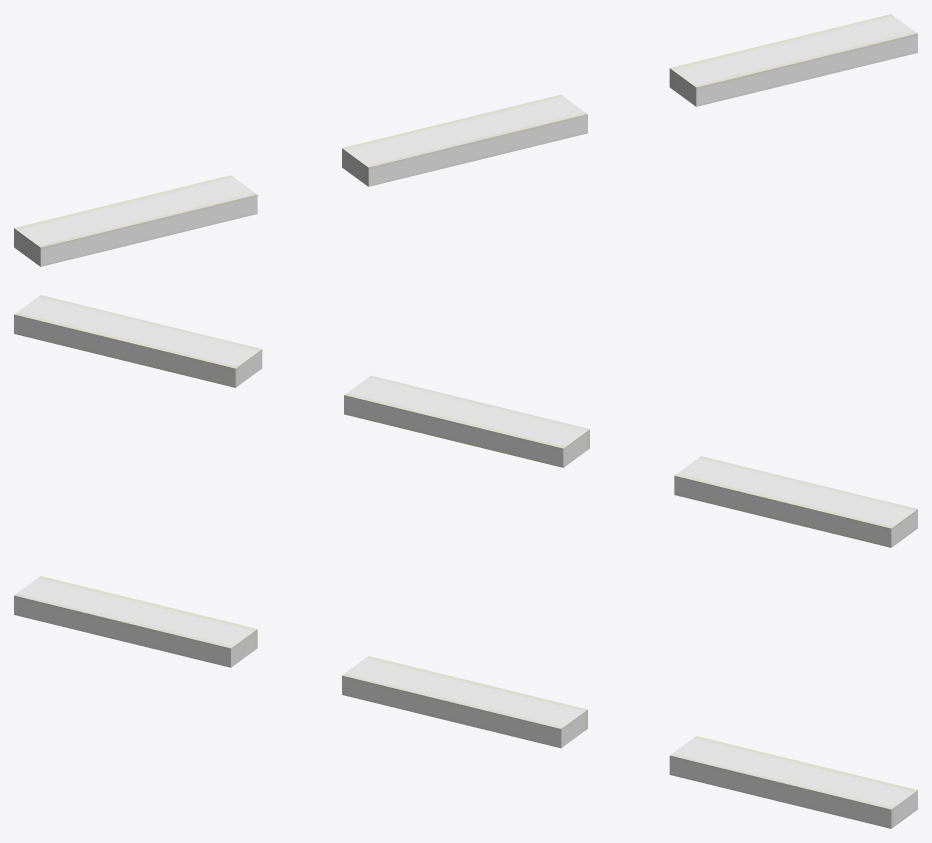
The model's file is Poly_SF_Outside_B_Junk_Stall_01_Lights.obj.
3 renders of one model, top to bottom at view 1: azimuth 30°, elevation 25°; view 2: azimuth 150°, elevation 25°; view 3: azimuth 330°, elevation 25°, orthographic.
Parts seen in each view (by area): view 1: Cube.003; view 2: Cube.003; view 3: Cube.003.
Boxes of the visible parts, bbox=[...] form: Cube.003: bbox=[14, 14, 917, 266]; Cube.003: bbox=[14, 295, 917, 547]; Cube.003: bbox=[14, 576, 917, 828].
Bounding box in the file's own units: 1.9 × 0.04 × 0.1.
1 material, 1 textured.
